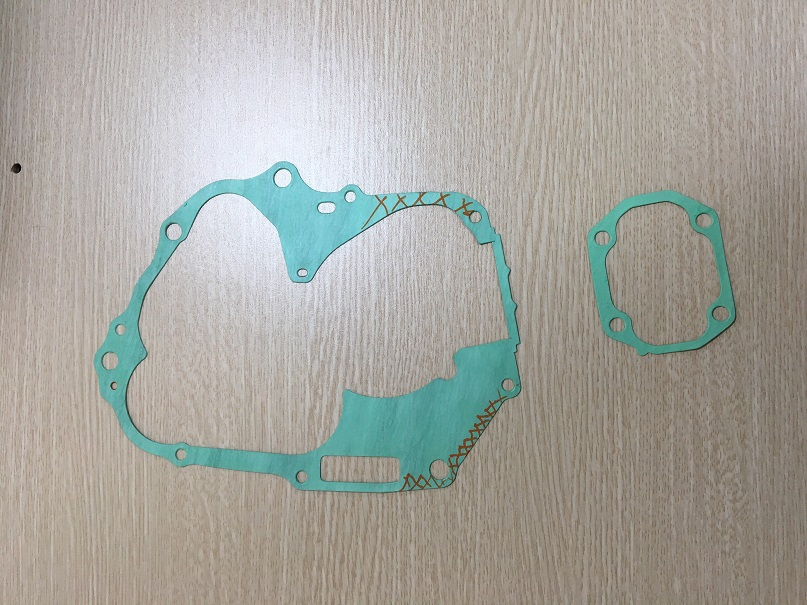type2: (575, 186, 750, 362)
type3: (88, 152, 525, 505)
